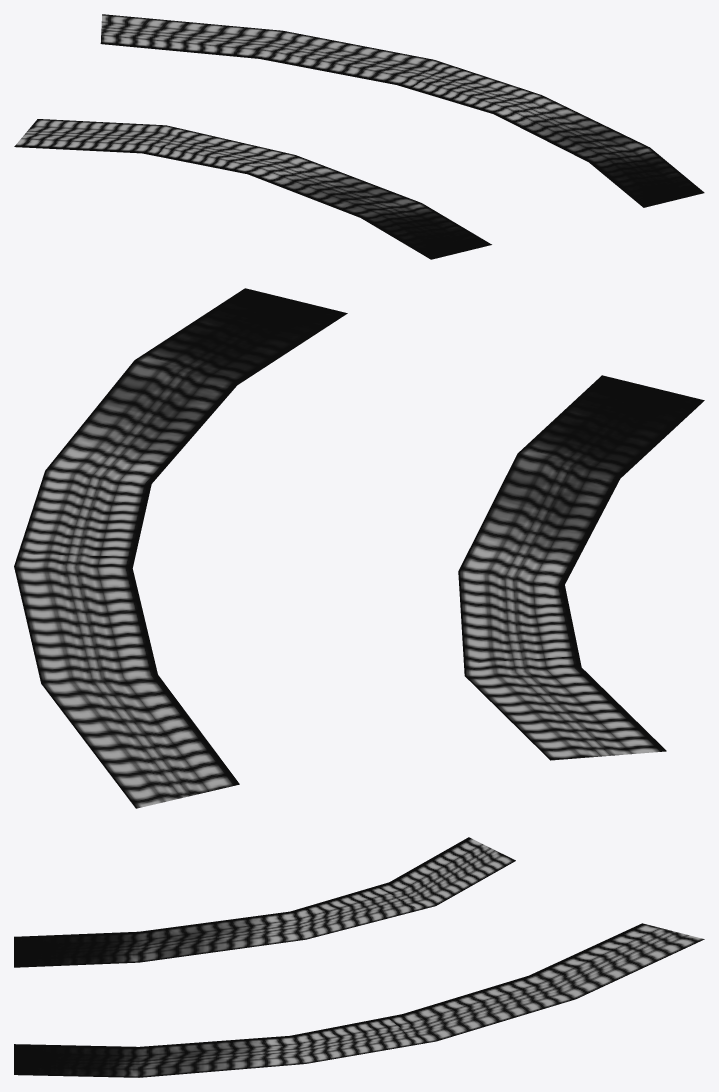
File: Model_TireMarks_Left_Fade.fbx
3 renders of one model, top to bottom at view 1: azimuth 30°, elevation 25°; view 2: azimuth 150°, elevation 25°; view 3: azimuth 270°, elevation 25°, orthographic. The views are drawn at different scales.
Parts seen in each view (by area): view 1: TireMarks_Left_Fade; view 2: TireMarks_Left_Fade; view 3: TireMarks_Left_Fade.
Boxes of the visible parts, <box> form: TireMarks_Left_Fade: <box>14,14,704,259</box>; TireMarks_Left_Fade: <box>14,288,704,808</box>; TireMarks_Left_Fade: <box>14,837,704,1077</box>.
Bounding box in the file's own units: 312 × 3.05e-14 × 379.
